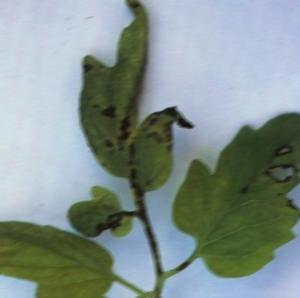Tomato leaf bacterial spot: (172, 108, 297, 283), (85, 1, 189, 199)
